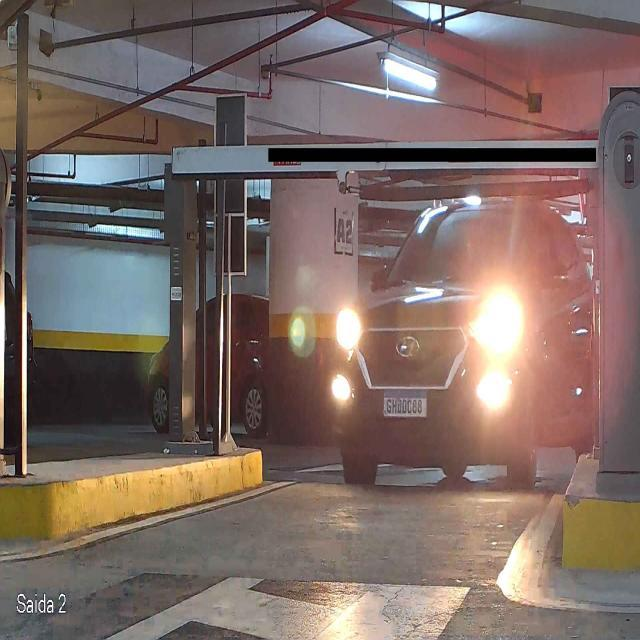mercosul_plate: (380, 388, 431, 420)
